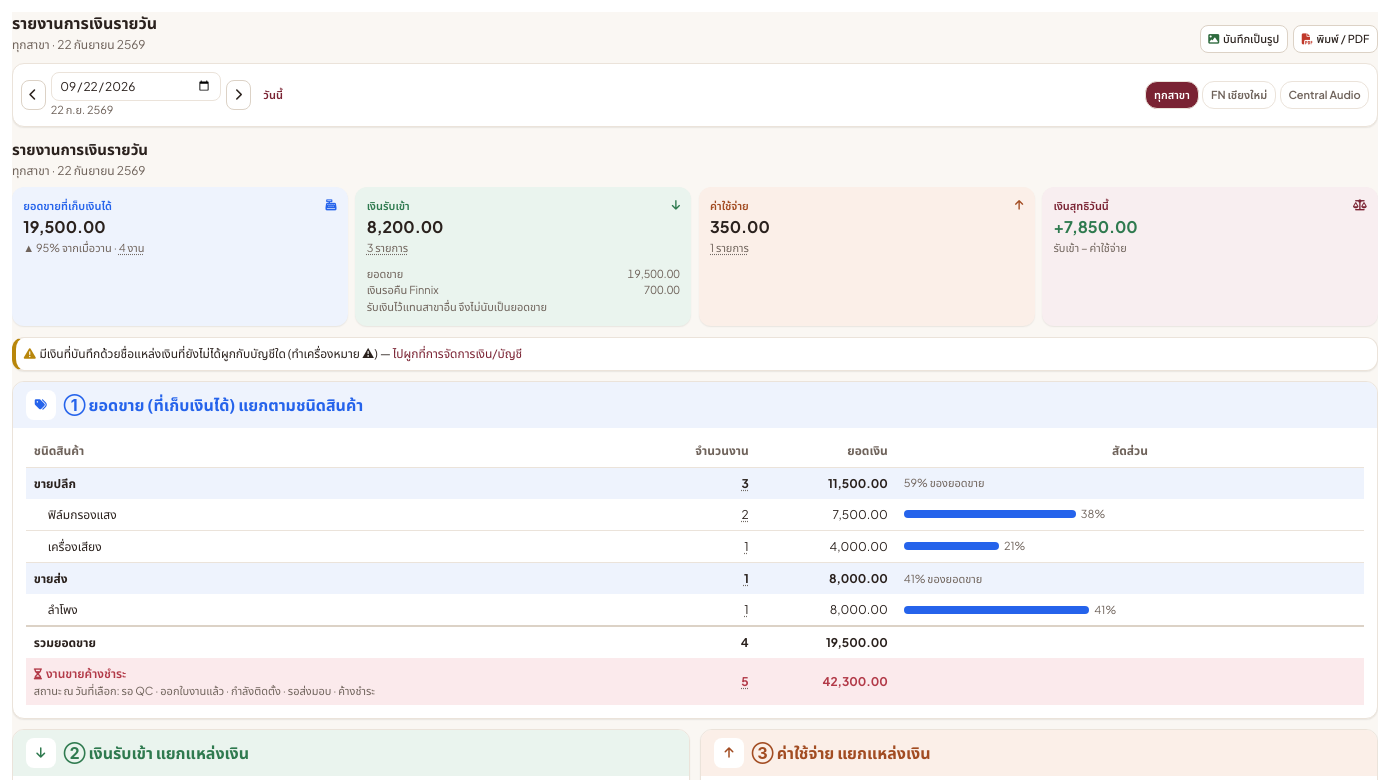
Scenario: DailyReportView — บันทึกเป็นรูป และพิมพ์ › แคปไม่สำเร็จ บอกออกมา ไม่ใช่เงียบ
The image size is (1390, 780).
Click the button "บันทึกเป็นรูป". click: (1244, 39)
box: [1200,25,1288,53]
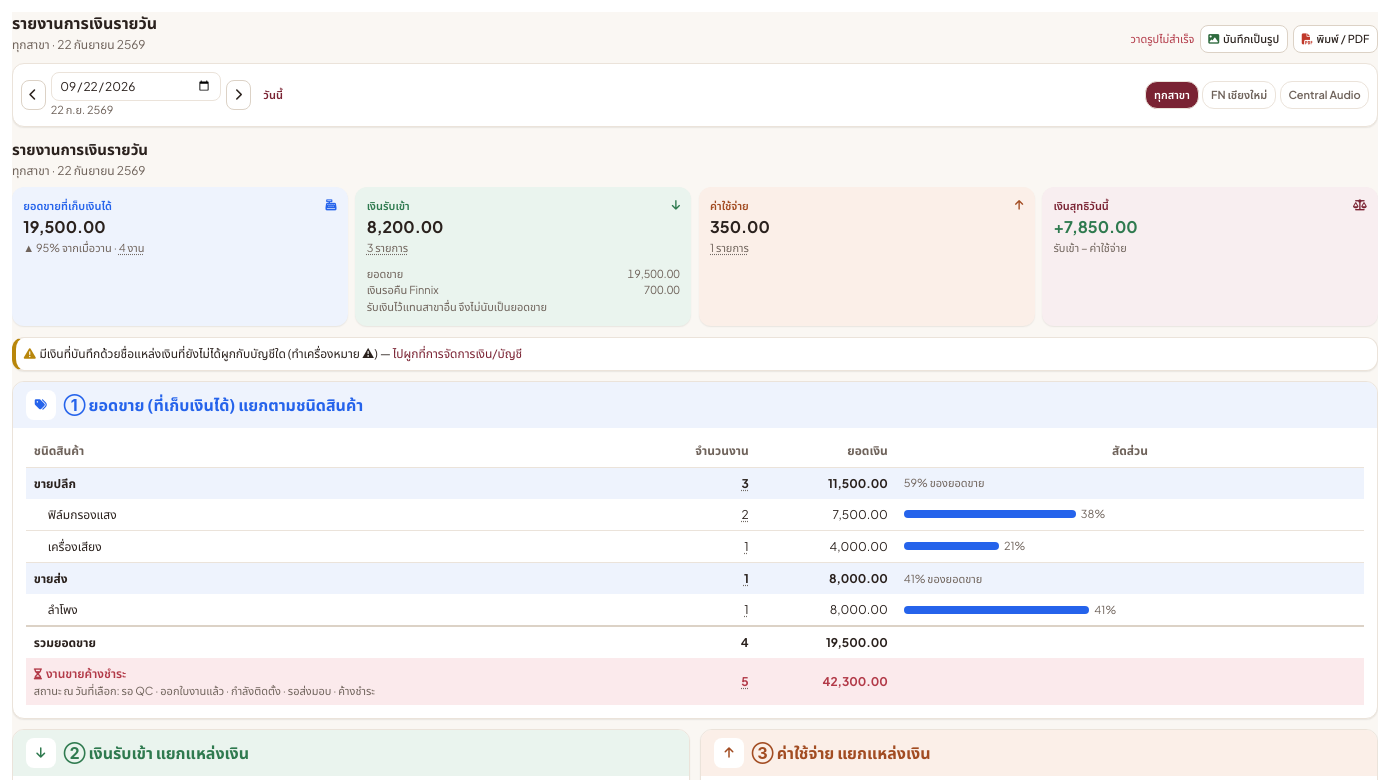
Now the message reads "วาดรูปไม่สำเร็จ", box [1130,32,1194,45]
